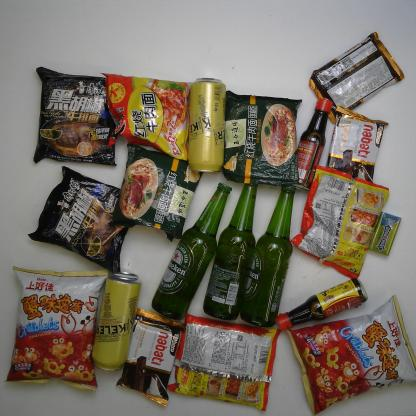Alcohol: (149, 180, 235, 323), (237, 178, 301, 330), (203, 175, 266, 325), (90, 268, 144, 375), (188, 74, 228, 176)
Dessert: (308, 26, 406, 128), (113, 305, 190, 408), (323, 103, 388, 195)
Gum: (365, 210, 405, 258)
Instant Noodles: (26, 164, 147, 278), (286, 161, 393, 283), (165, 311, 285, 413), (103, 142, 211, 243), (28, 64, 125, 166), (98, 70, 199, 163), (216, 88, 307, 190)
Puffed Food: (284, 293, 416, 416), (2, 263, 114, 394)
Seasoner: (274, 273, 372, 333), (284, 97, 336, 195)
